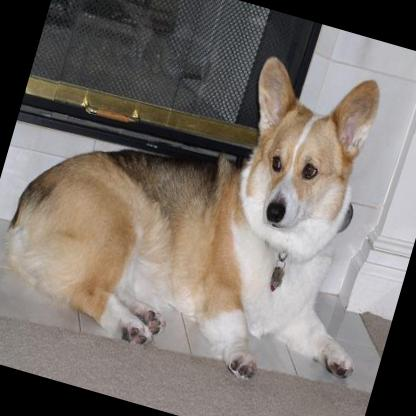Pembroke: (0, 0, 416, 411)
